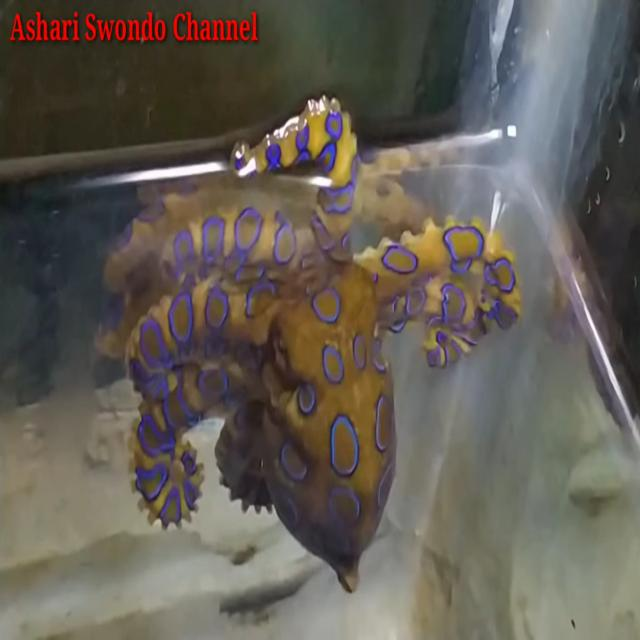blue_ringed_octopus: (92, 93, 522, 594)
